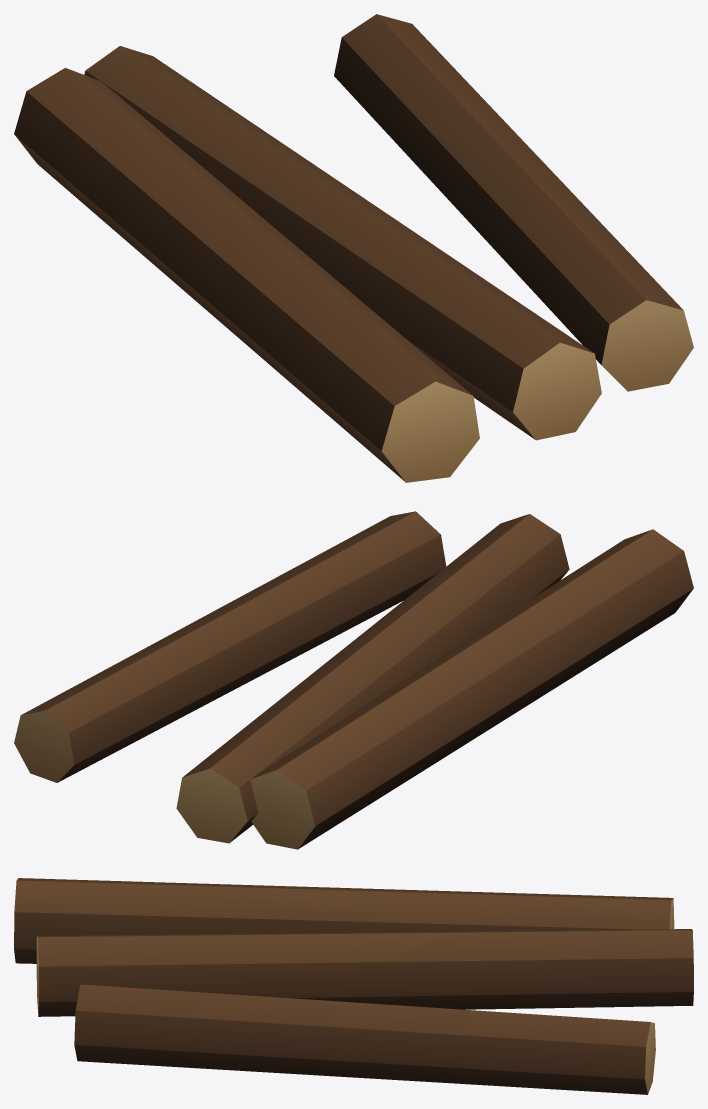
File: PineLogs.fbx
3 renders of one model, top to bottom at view 1: azimuth 30°, elevation 25°; view 2: azimuth 150°, elevation 25°; view 3: azimuth 270°, elevation 25°, orthographic. The views are drawn at different scales.
Visible parts, largest first — view 1: PineLogs_LOD0; view 2: PineLogs_LOD0; view 3: PineLogs_LOD0.
Part boxes in pixels (left/top/right/bottom): PineLogs_LOD0: left=14, top=14, right=693, bottom=482; PineLogs_LOD0: left=14, top=511, right=693, bottom=849; PineLogs_LOD0: left=14, top=878, right=693, bottom=1094.
Size of what is drawn, in the model's own units: 1.93 by 0.4154 by 3.3.
1 material, 1 textured.
